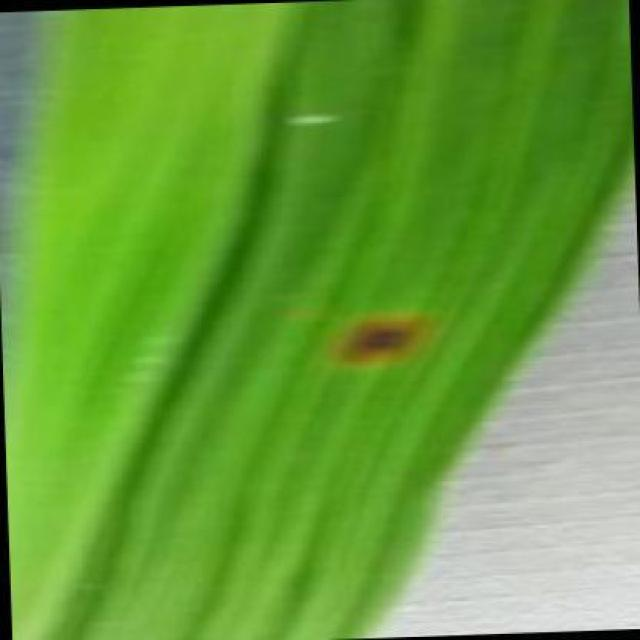Leaf_Blast: (318, 291, 442, 377), (279, 92, 366, 150)
